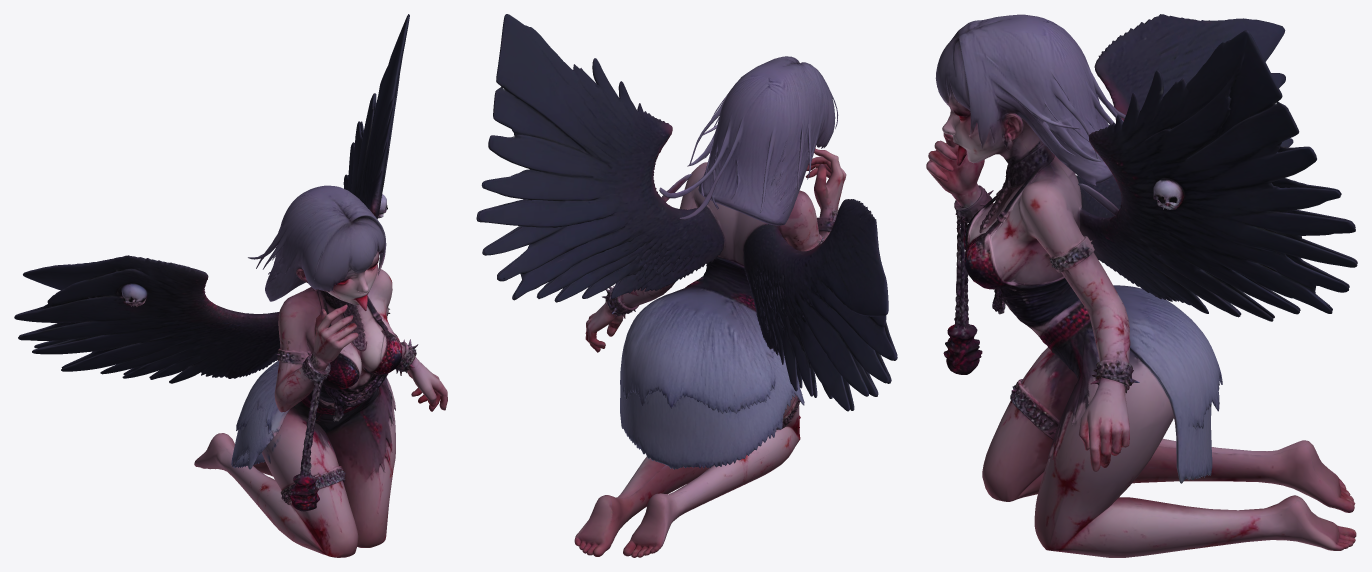
The model's file is girl-31.glb.
3 renders of one model, left to right at view 1: azimuth 30°, elevation 25°; view 2: azimuth 150°, elevation 25°; view 3: azimuth 270°, elevation 25°, orthographic. The views are drawn at different scales.
Parts seen in each view (by area): view 1: node_0; view 2: node_0; view 3: node_0.
Part boxes in pixels (x1=…): node_0: x1=14, y1=14, x2=447, y2=557; node_0: x1=476, y1=14, x2=897, y2=557; node_0: x1=926, y1=14, x2=1357, y2=557.
Size of the model in its own units: 0.7713 by 0.8757 by 0.577.
Materials: 1 (1 with a texture image).
